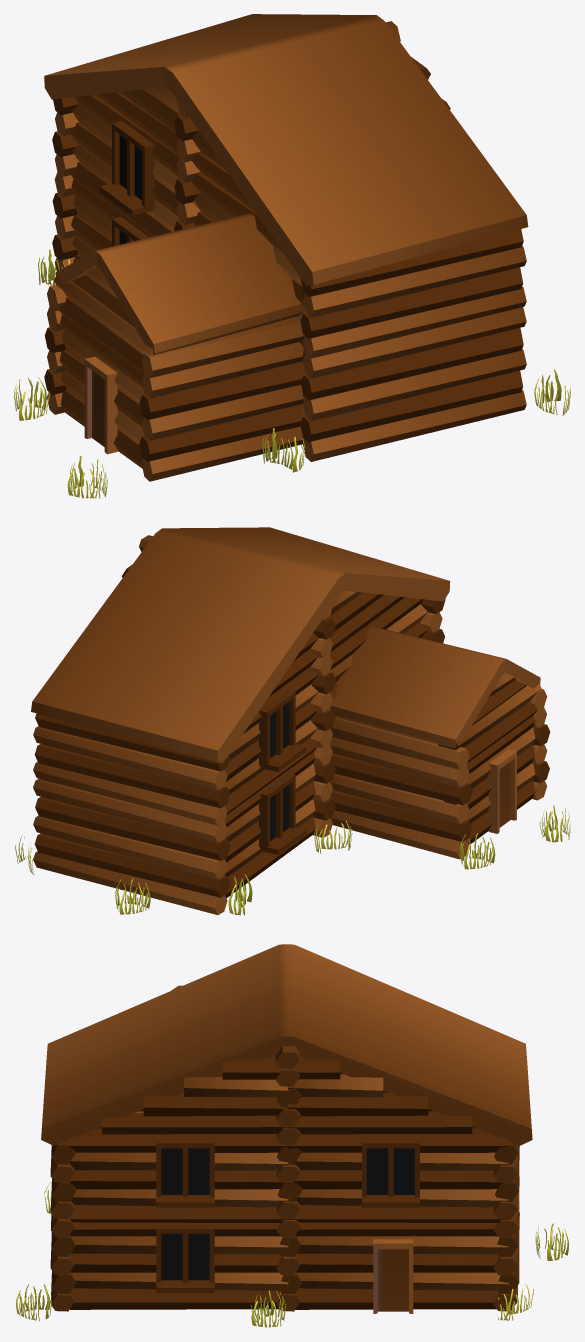
The model's file is SM_Houses.fbx.
3 views of the same model, one above another, from view 1: azimuth 30°, elevation 25°; view 2: azimuth 150°, elevation 25°; view 3: azimuth 270°, elevation 25° (orthographic). The views are drawn at different scales.
Visible parts, largest first — view 1: SM_House_01; view 2: SM_House_01; view 3: SM_House_01.
Part boxes in pixels (x1,y1,x2,y2): SM_House_01: (14, 14, 570, 498); SM_House_01: (15, 527, 570, 915); SM_House_01: (16, 944, 568, 1327).
Size of the model in its own units: 12.53 by 8.58 by 15.06.
